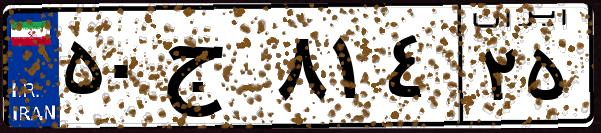0: (110, 28, 158, 98)
1: (330, 28, 385, 110)
2: (475, 38, 525, 113)
4: (385, 28, 445, 110)
5: (57, 26, 110, 100), (525, 38, 570, 115)
8: (270, 28, 330, 110)
ج: (158, 20, 270, 120)
